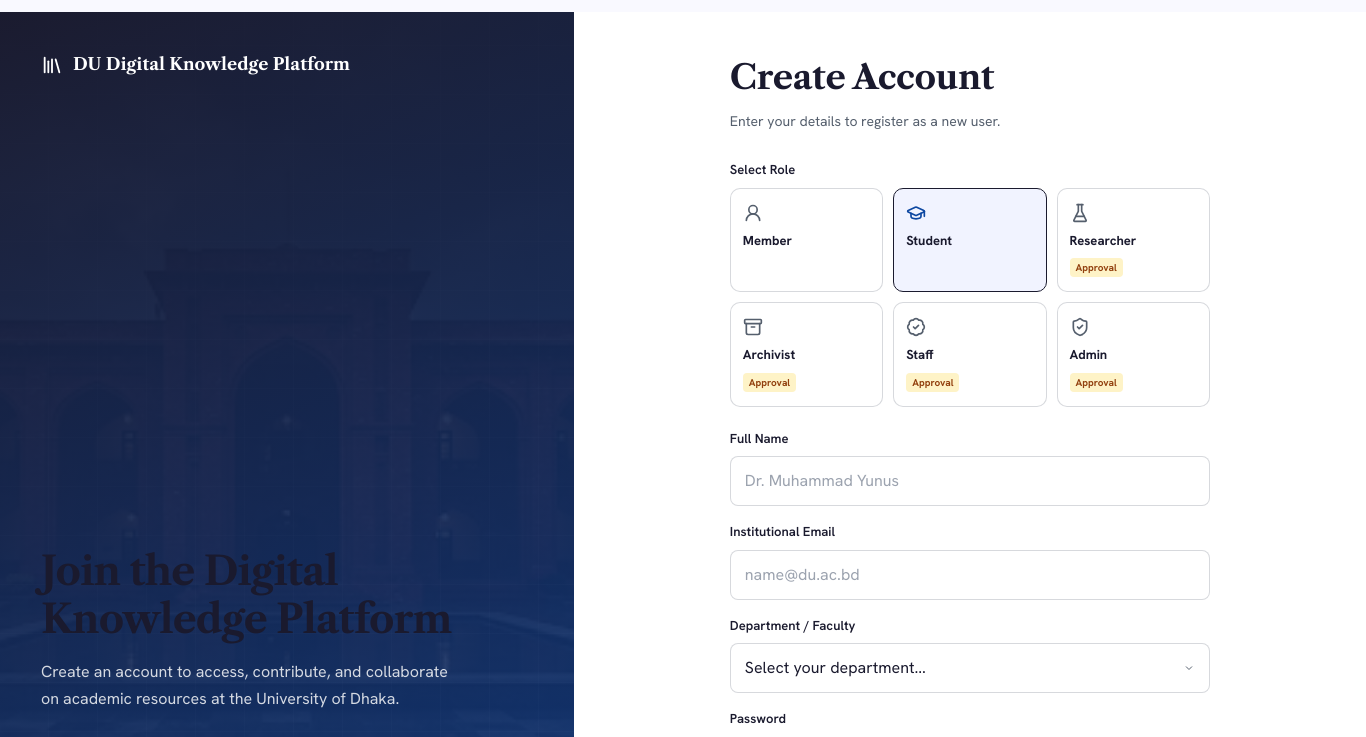
Test: RegisterPage › moves to the OTP verification step when registration requires email verification
The image size is (1366, 737).
Type "Jane Doe" into the field with placeholder "Dr. Muhammad Yunus".
click(970, 481); type("Jane Doe")  # box [730,456,1210,506]
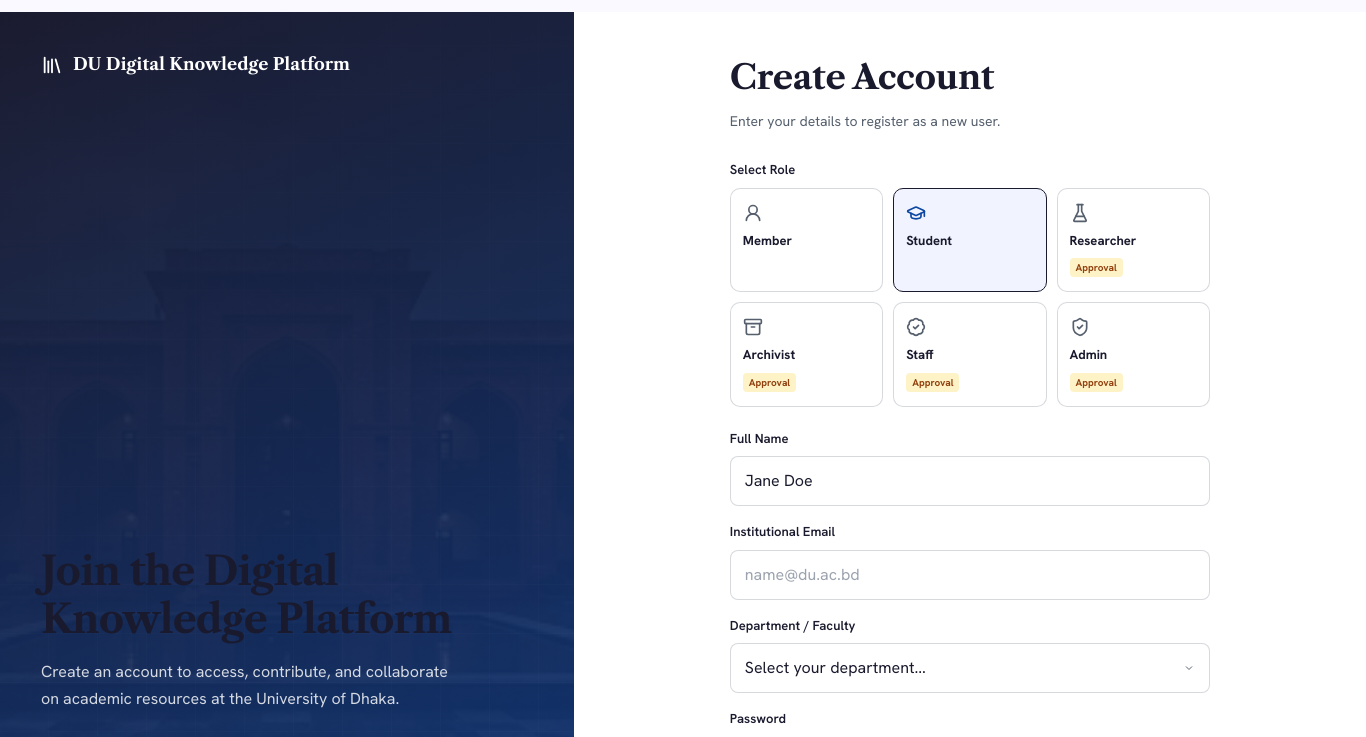
Type "jane@example.com" into the field with placeholder "name@du.ac.bd".
click(970, 574); type("jane@example.com")  # box [730,550,1210,600]
(page scrolled)
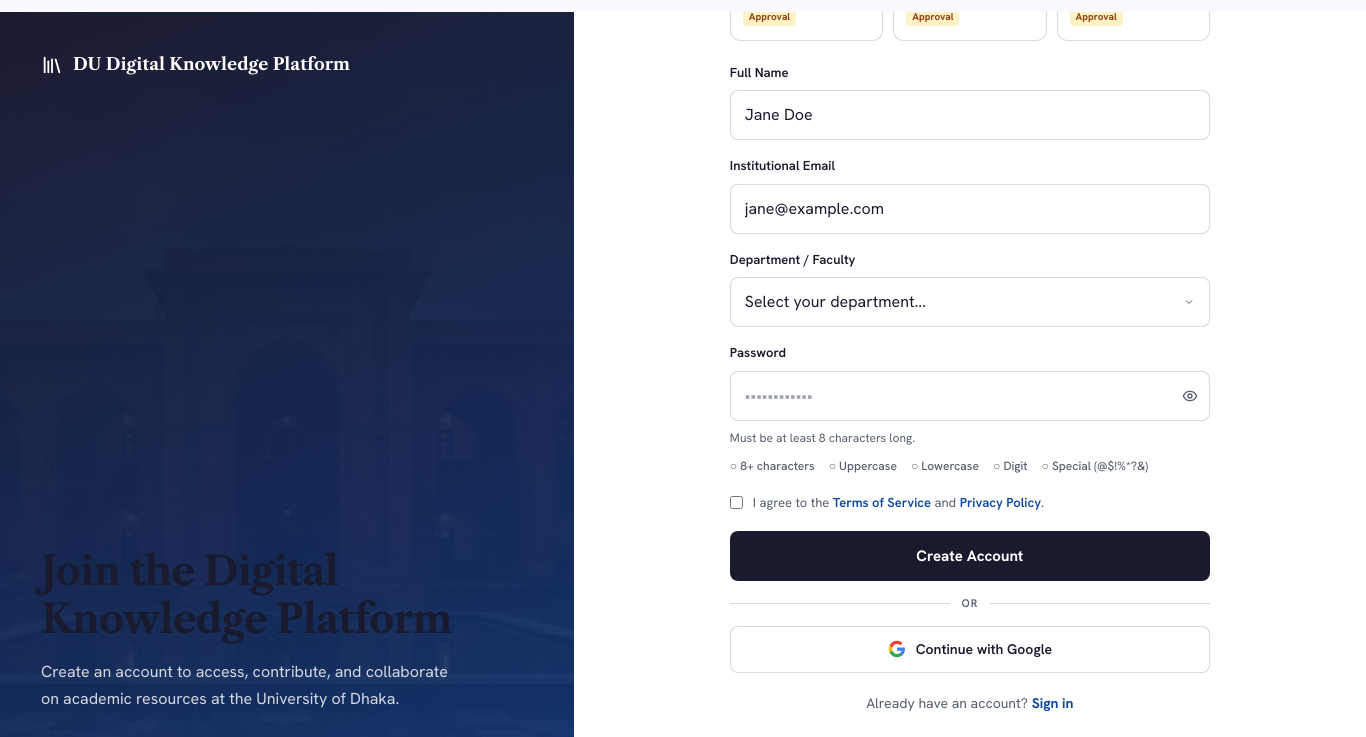
Type "Abcdef1$" into the password field with placeholder "••••••••••••".
click(970, 396); type("Abcdef1$")  # box [730,370,1210,420]
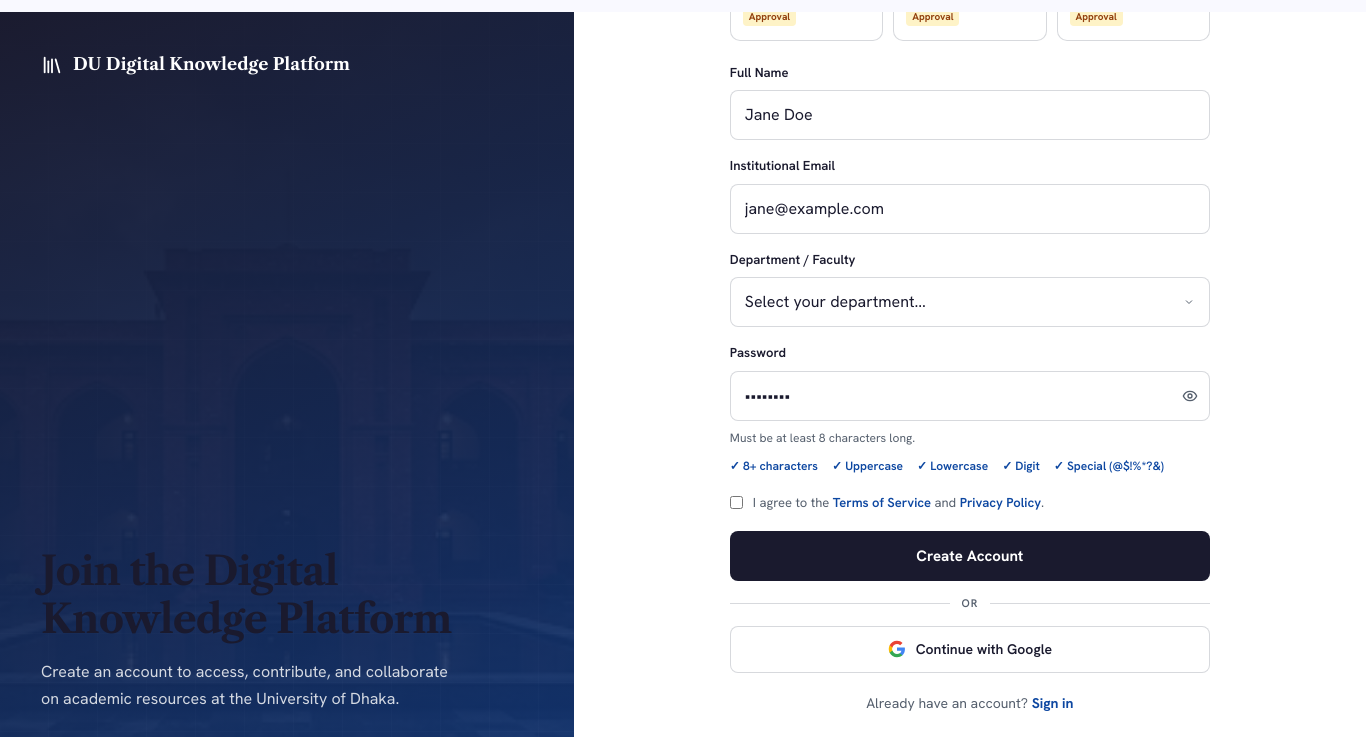
Click the checkbox.
click(736, 502)  # box [730,496,743,508]
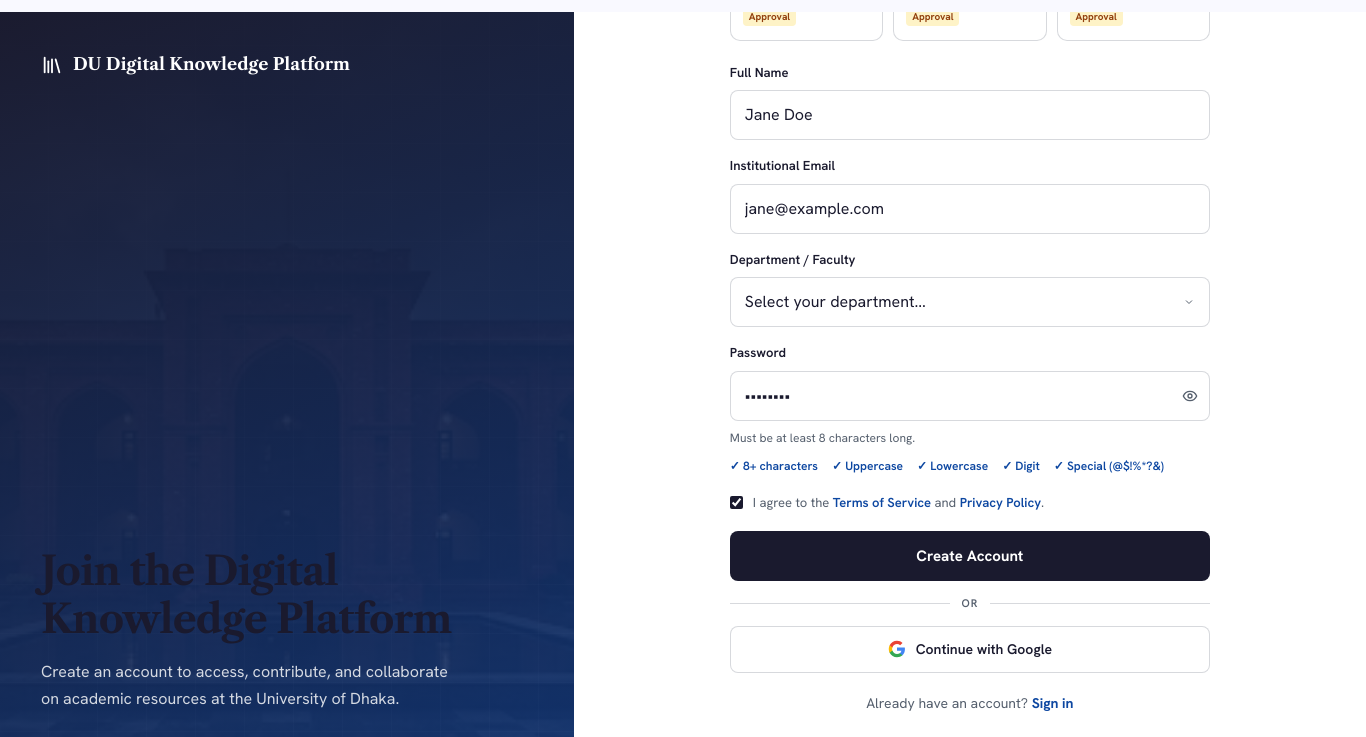
Click the button "Create Account".
click(970, 556)  # box [730,531,1210,581]
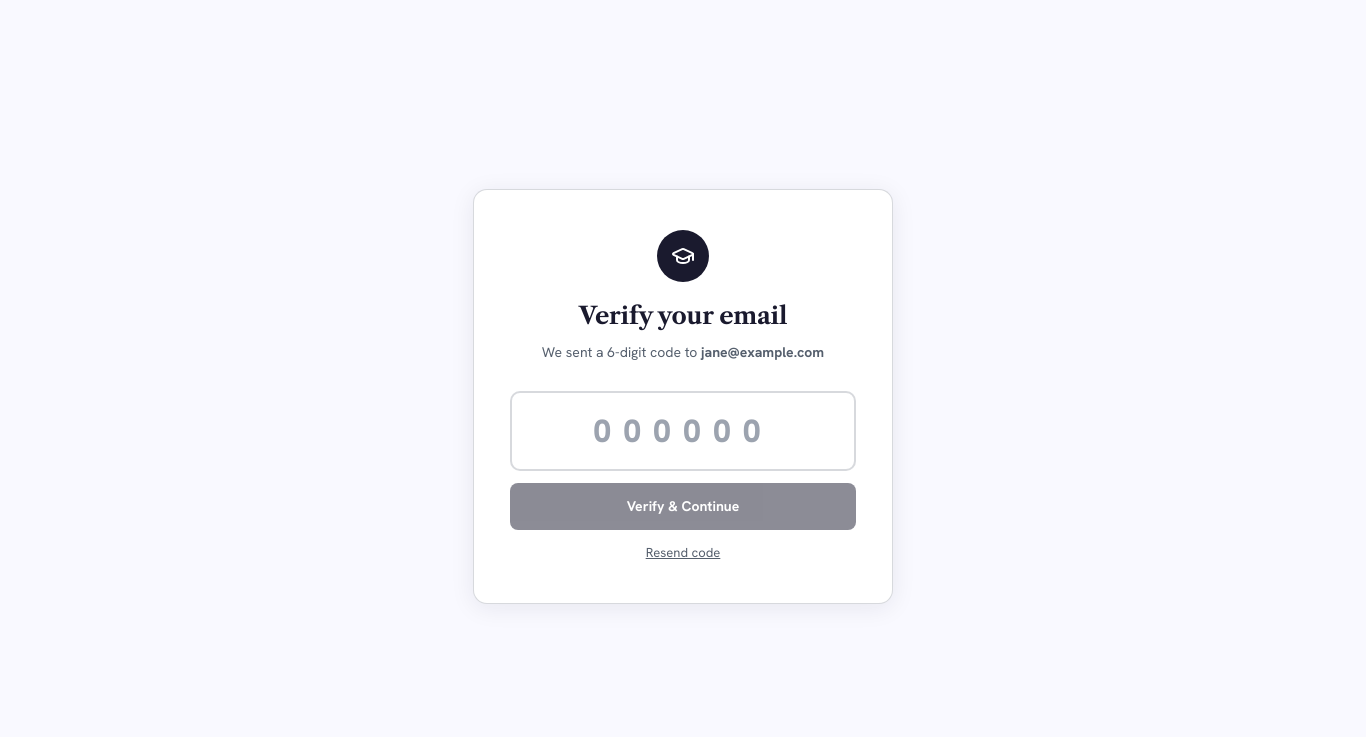
Check: the heading "Verify your email" is shown, box [579,300,787,330]
Check: the text "jane@example.com" is shown, box [701,342,824,360]
